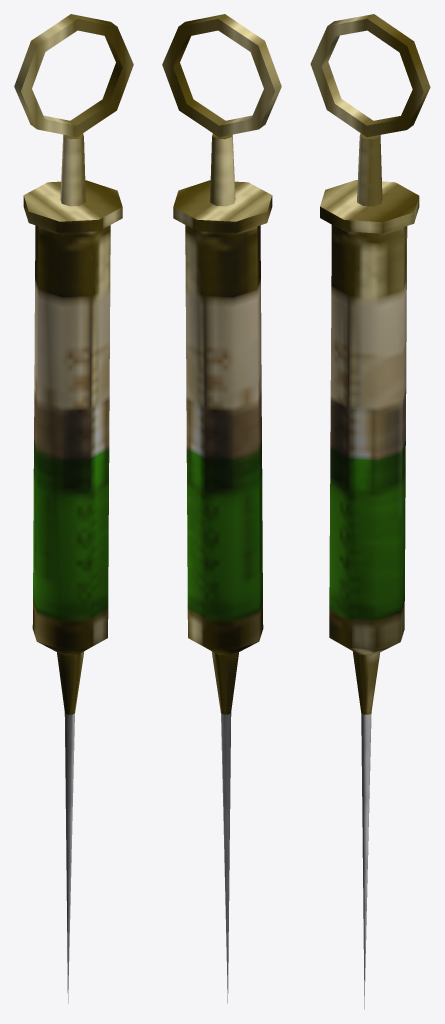
Rendered from InjectHeal 1.fbx.
3 renders of one model, left to right at view 1: azimuth 30°, elevation 25°; view 2: azimuth 150°, elevation 25°; view 3: azimuth 330°, elevation 25°, orthographic.
Visible parts, largest first — view 1: injectheal; view 2: injectheal; view 3: injectheal.
Boxes of the visible parts, x1,y1,x2,y2 form: injectheal: (14,14,133,1003); injectheal: (162,14,281,1003); injectheal: (310,14,430,1009).
Bounding box in the file's own units: 0.2672 × 2.24 × 0.2099.
